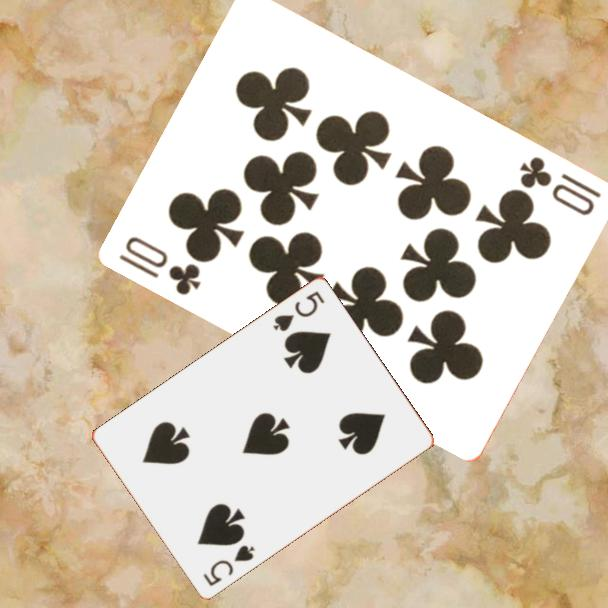c10: (516, 152, 605, 219), (116, 232, 204, 298)
s05: (200, 542, 258, 590), (269, 288, 327, 335)
